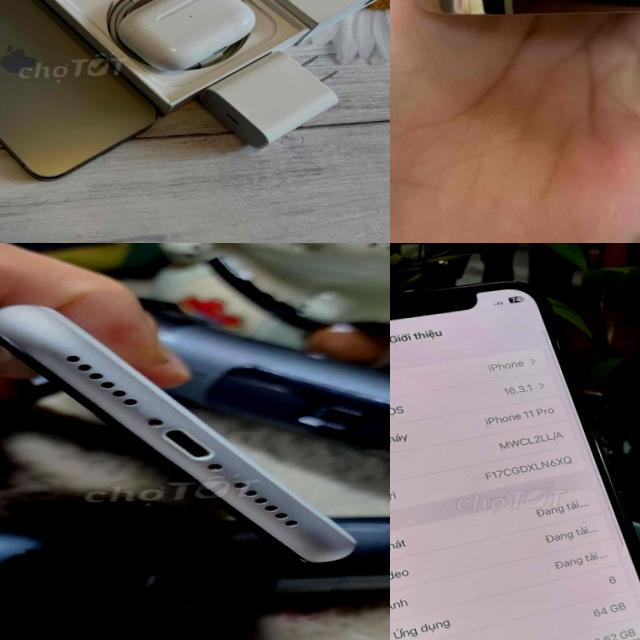gen_11: (390, 269, 640, 640), (0, 304, 354, 562)
gen_12_13: (0, 0, 169, 194)
